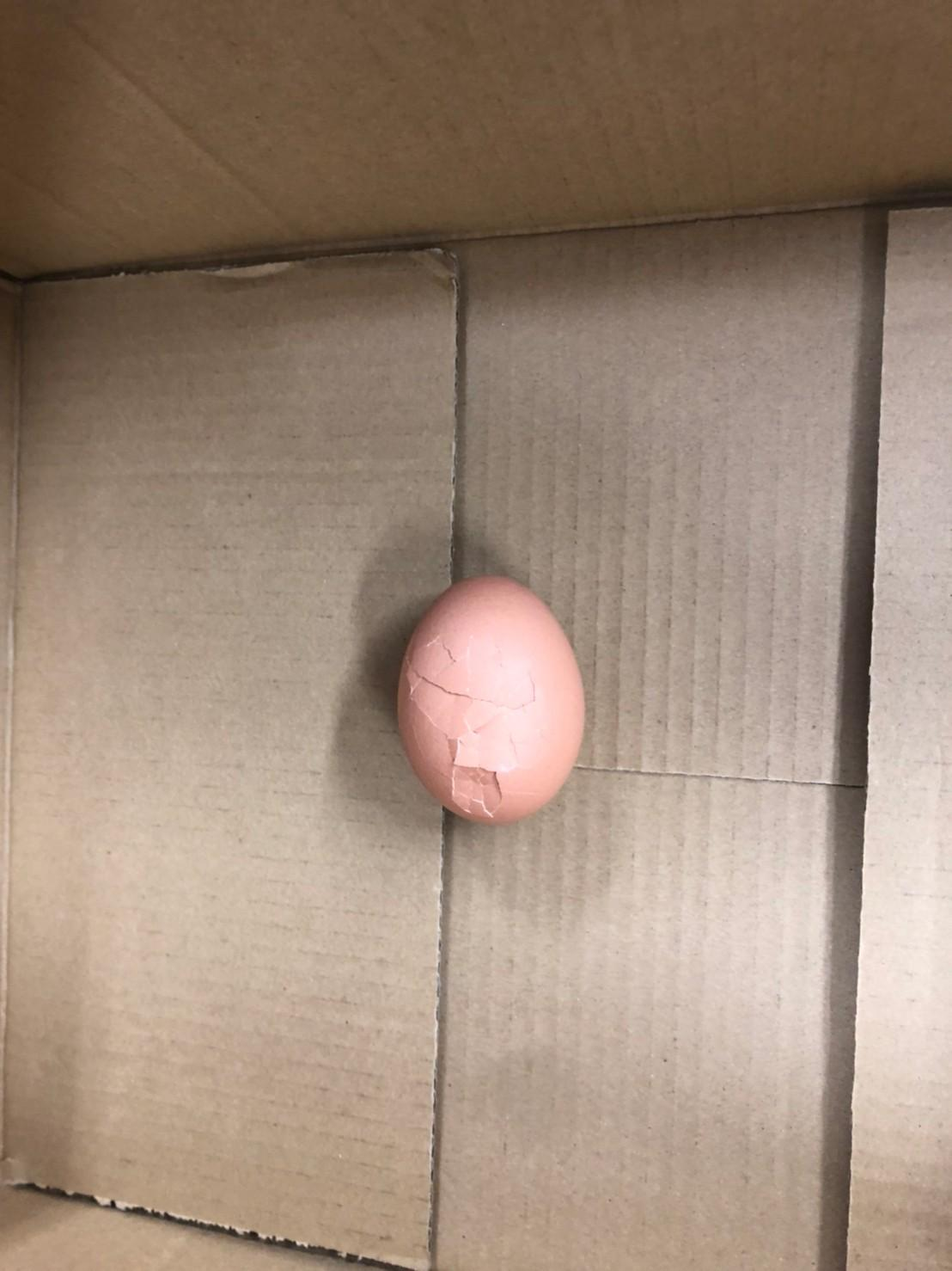egg: (386, 570, 591, 826)
